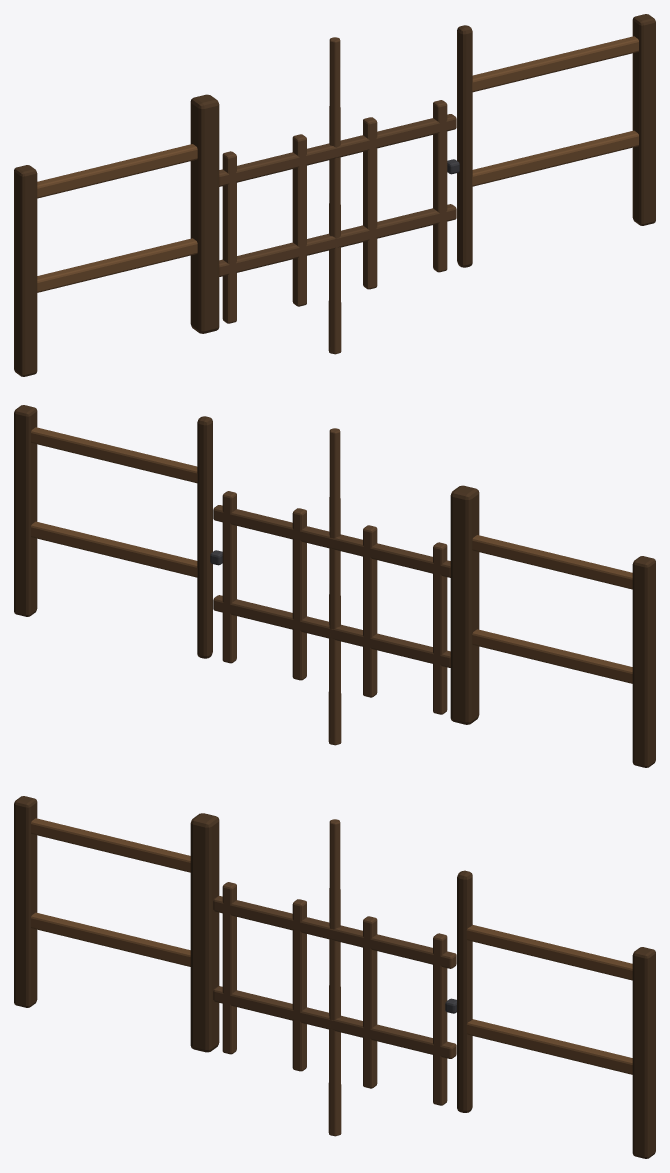
Rendered from rat_pen_gate.glb.
3 renders of one model, top to bottom at view 1: azimuth 30°, elevation 25°; view 2: azimuth 150°, elevation 25°; view 3: azimuth 330°, elevation 25°, orthographic.
Visible parts, largest first — view 1: Cube.006, Cube, Cube.003, Cube.007, Cube.012, Cube.013, Cone, Cube.004, Cube.005, Cube.001, Cube.002, Cube.011 (+3 smaller); view 2: Cube.006, Cube, Cube.003, Cube.007, Cube.012, Cube.013, Cone, Cube.004, Cube.005, Cube.001, Cube.002, Cube.011 (+3 smaller); view 3: Cube.006, Cube.003, Cube, Cube.012, Cube.013, Cube.007, Cone, Cube.005, Cube.004, Cube.002, Cube.001, Cube.008 (+3 smaller).
Part boxes in pixels (x1,y1,x2,y2): Cube.006: (190,94,219,333); Cube: (14,165,37,376); Cube.003: (632,14,655,225); Cube.007: (457,25,472,267); Cube.012: (219,204,456,276); Cube.013: (219,114,456,186); Cone: (328,37,341,354); Cube.004: (472,130,638,186); Cube.005: (472,36,638,92); Cube.001: (37,238,197,292); Cube.002: (37,144,197,198); Cube.011: (433,100,447,272); Cube.006: (450,485,479,724); Cube: (632,556,655,767); Cube.003: (14,405,37,616); Cube.007: (197,416,212,658); Cube.012: (213,595,450,667); Cube.013: (213,505,450,577); Cone: (328,428,341,745); Cube.004: (31,521,197,577); Cube.005: (31,427,197,483); Cube.001: (472,629,632,683); Cube.002: (472,535,632,589); Cube.011: (222,491,236,663); Cube.006: (190,813,219,1052); Cube.003: (632,947,655,1158); Cube: (14,796,37,1007); Cube.012: (213,986,456,1058); Cube.013: (213,896,456,968); Cube.007: (457,870,472,1112); Cone: (328,819,341,1136); Cube.005: (466,925,632,980); Cube.004: (466,1019,632,1074); Cube.002: (31,818,190,872); Cube.001: (31,912,190,966); Cube.008: (222,882,236,1054).
Size of the model in its own units: 3.08 by 1.45 by 0.1.
